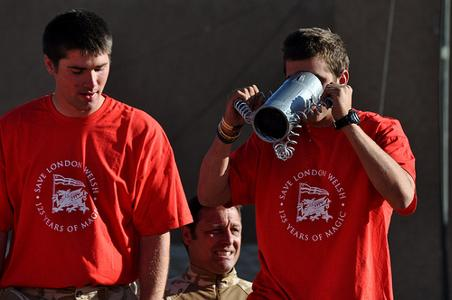person: (199, 26, 419, 300)
